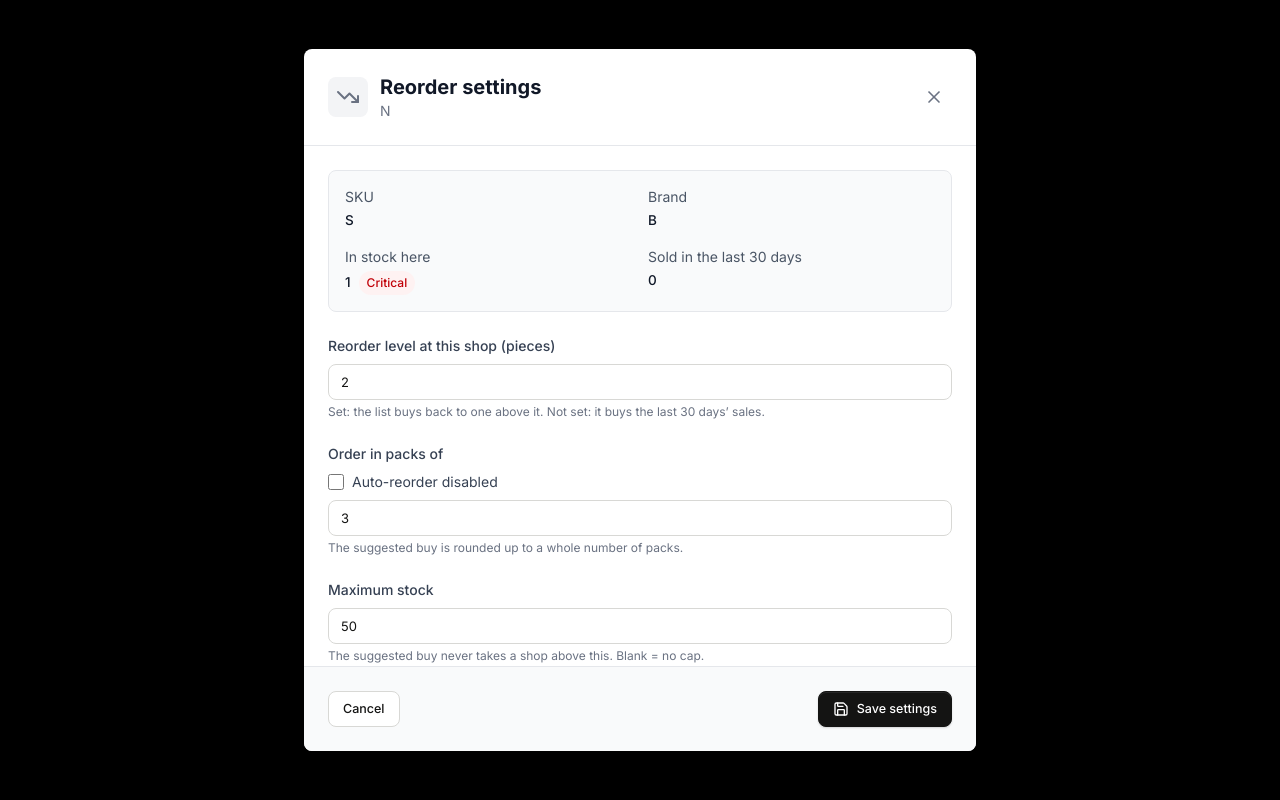
3. modal band is the server band › a level being typed has no verdict until it is saved
Expected: the text "Critical" is shown, [359,271,415,295]
Replace the text in the number field with placeholder "not set" with "9" at (640, 382), box [328,364,952,400]
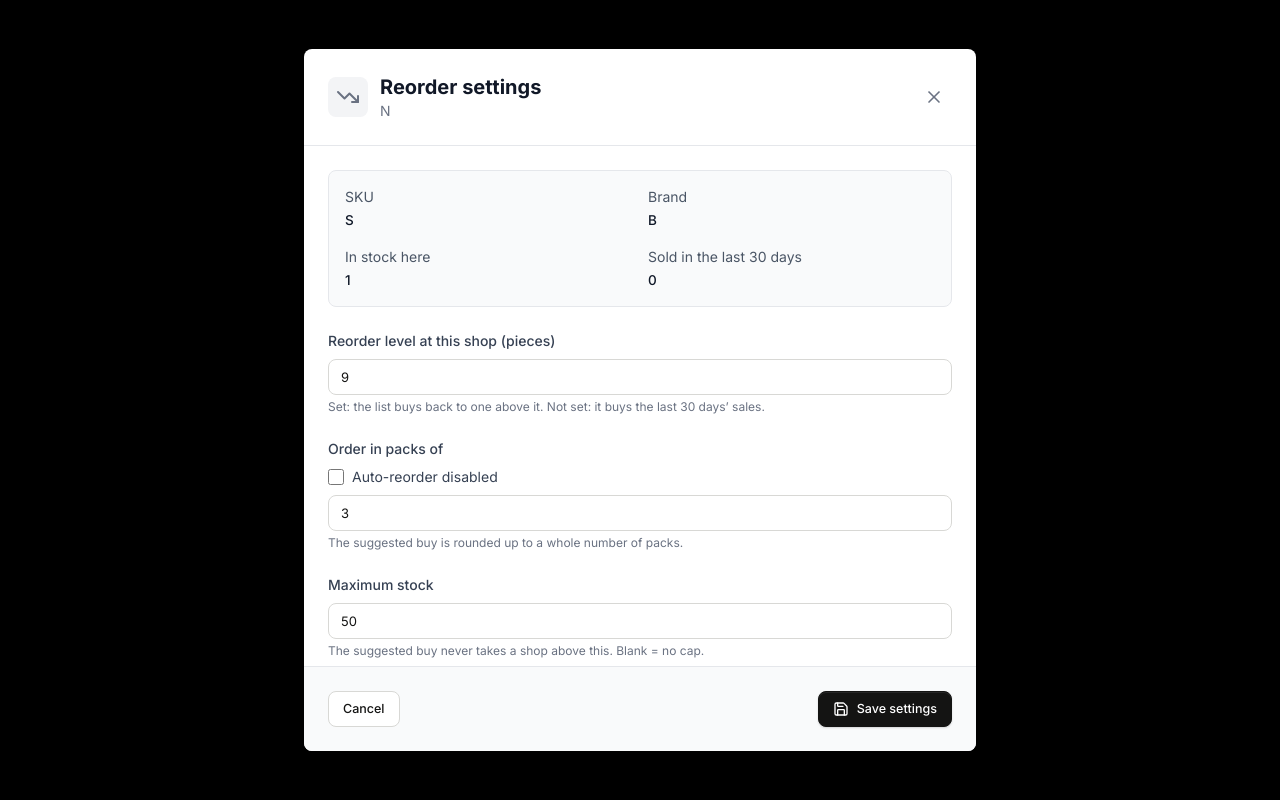
Expected: the text "Critical" is gone
